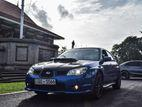car: (22, 45, 122, 101), (124, 59, 142, 80)
